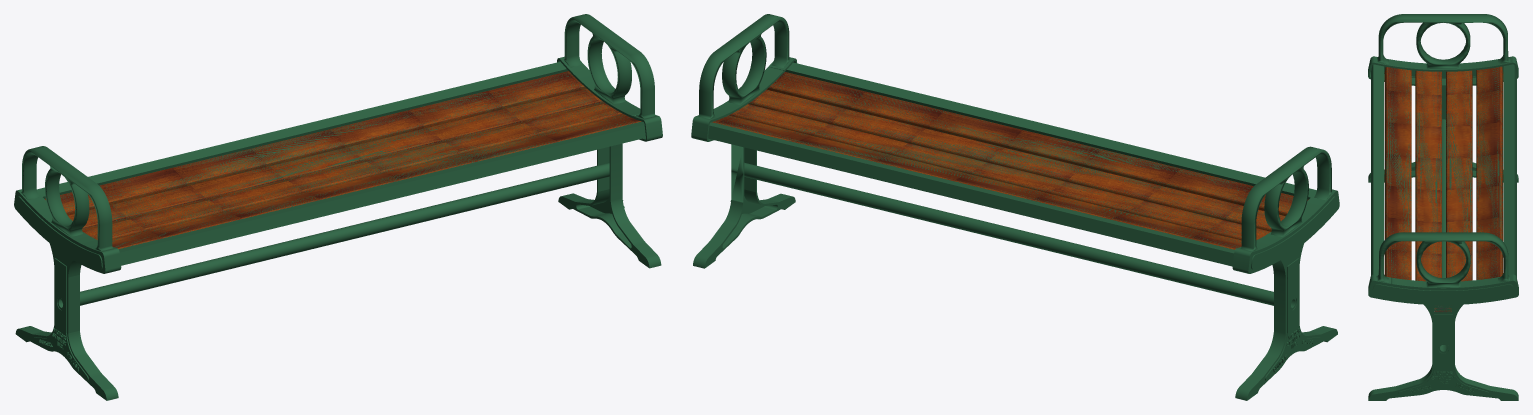
3 views of the same model, side by side, from view 1: azimuth 30°, elevation 25°; view 2: azimuth 150°, elevation 25°; view 3: azimuth 270°, elevation 25° (orthographic). The views are drawn at different scales.
Visible parts, largest first — view 1: mesh8_mesh8-geometry, mesh1_mesh1-geometry, mesh7_mesh7-geometry, mesh3_mesh3-geometry, mesh6_mesh6-geometry, mesh4_mesh4-geometry, mesh2_mesh2-geometry, mesh11_mesh11-geometry, mesh9_mesh9-geometry, mesh5_mesh5-geometry; view 2: mesh8_mesh8-geometry, mesh4_mesh4-geometry, mesh6_mesh6-geometry, mesh2_mesh2-geometry, mesh7_mesh7-geometry, mesh1_mesh1-geometry, mesh3_mesh3-geometry, mesh11_mesh11-geometry, mesh9_mesh9-geometry, mesh5_mesh5-geometry; view 3: mesh11_mesh11-geometry, mesh4_mesh4-geometry, mesh1_mesh1-geometry, mesh7_mesh7-geometry, mesh6_mesh6-geometry, mesh8_mesh8-geometry, mesh2_mesh2-geometry, mesh9_mesh9-geometry, mesh3_mesh3-geometry, mesh5_mesh5-geometry.
Boxes of the visible parts, x1=… form: mesh8_mesh8-geometry: x1=15, y1=143, x2=661, y2=400; mesh1_mesh1-geometry: x1=45, y1=71, x2=586, y2=215; mesh7_mesh7-geometry: x1=68, y1=89, x2=605, y2=230; mesh3_mesh3-geometry: x1=118, y1=121, x2=645, y2=265; mesh6_mesh6-geometry: x1=82, y1=103, x2=624, y2=239; mesh4_mesh4-geometry: x1=112, y1=114, x2=641, y2=249; mesh2_mesh2-geometry: x1=37, y1=61, x2=568, y2=198; mesh11_mesh11-geometry: x1=557, y1=14, x2=662, y2=141; mesh9_mesh9-geometry: x1=21, y1=146, x2=112, y2=251; mesh5_mesh5-geometry: x1=14, y1=189, x2=121, y2=273; mesh8_mesh8-geometry: x1=693, y1=144, x2=1337, y2=400; mesh4_mesh4-geometry: x1=767, y1=72, x2=1308, y2=216; mesh6_mesh6-geometry: x1=748, y1=89, x2=1285, y2=231; mesh2_mesh2-geometry: x1=708, y1=122, x2=1234, y2=266; mesh7_mesh7-geometry: x1=729, y1=104, x2=1270, y2=240; mesh1_mesh1-geometry: x1=712, y1=115, x2=1241, y2=249; mesh3_mesh3-geometry: x1=785, y1=62, x2=1316, y2=199; mesh11_mesh11-geometry: x1=691, y1=14, x2=796, y2=141; mesh9_mesh9-geometry: x1=1240, y1=146, x2=1332, y2=251; mesh5_mesh5-geometry: x1=1232, y1=189, x2=1339, y2=273; mesh11_mesh11-geometry: x1=1368, y1=232, x2=1518, y2=304; mesh4_mesh4-geometry: x1=1384, y1=67, x2=1411, y2=280; mesh1_mesh1-geometry: x1=1476, y1=66, x2=1503, y2=279; mesh7_mesh7-geometry: x1=1446, y1=70, x2=1472, y2=281; mesh6_mesh6-geometry: x1=1415, y1=70, x2=1441, y2=281; mesh8_mesh8-geometry: x1=1368, y1=87, x2=1518, y2=400; mesh2_mesh2-geometry: x1=1503, y1=64, x2=1516, y2=277; mesh9_mesh9-geometry: x1=1377, y1=14, x2=1510, y2=68; mesh3_mesh3-geometry: x1=1371, y1=64, x2=1383, y2=275; mesh5_mesh5-geometry: x1=1368, y1=56, x2=1518, y2=86.
Bounding box in the file's own units: 0.9147 × 0.3102 × 0.2591.
